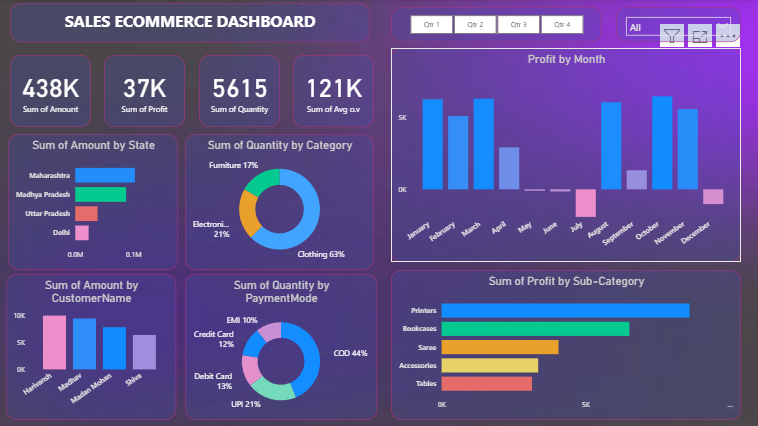

The page's visual inventory and layout, read from the dashboard file:
{"tool":"powerbi","page":{"name":"Page 1","canvas":[1280,720],"ordinal":0},"visuals":[{"type":"textbox","box":[18.5,6.7,604.7,65.5],"z":0},{"type":"columnChart","title":"Profit by Month","fields":{"Y":["Sum(Details.Profit)"],"Category":["Orders.Order Date.Variation.Date Hierarchy.Month"]},"box":[658.5,82.3,587.9,359.5],"z":1000},{"type":"barChart","fields":{"Category":["Details.Sub-Category"],"Y":["Sum(Details.Profit)"]},"box":[658.5,455.2,587.9,252],"z":2000},{"type":"donutChart","fields":{"Category":["Details.Category"],"Y":["Sum(Details.Quantity)"]},"box":[312.4,226.8,317.5,228.5],"z":3000},{"type":"donutChart","fields":{"Y":["Sum(Details.Quantity)"],"Category":["Details.PaymentMode"]},"box":[312.4,461.9,322.5,245.2],"z":4000},{"type":"card","fields":{"Values":["Sum(Details.Amount)"]},"box":[18.5,94.1,136.1,120.9],"z":5000},{"type":"card","fields":{"Values":["Sum(Details.Quantity)"]},"box":[336,94.1,136.1,120.9],"z":6000},{"type":"card","fields":{"Values":["Sum(Details.Profit)"]},"box":[176.4,94.1,136.1,120.9],"z":7000},{"type":"card","fields":{"Values":["Sum(Details.Avg o.v)"]},"box":[493.9,94.1,136.1,120.9],"z":8000},{"type":"barChart","fields":{"Category":["Orders.State"],"Y":["Sum(Details.Amount)"]},"box":[15.1,226.8,285.6,228.5],"z":9000},{"type":"columnChart","fields":{"Category":["Orders.CustomerName"],"Y":["Sum(Details.Amount)"]},"box":[11.8,461.9,285.6,245.2],"z":10000},{"type":"slicer","fields":{"Values":["Orders.Order Date.Variation.Date Hierarchy.Quarter"]},"box":[658.5,13.4,354.4,58.8],"z":11000},{"type":"slicer","fields":{"Values":["Orders.State"]},"box":[1036.4,13.4,210,58.8],"z":12000}]}

Visuals, with their boxes in screenshot pixels (x1, y1, x2, y2), scaled from the page's 1280x720 canvas onto the 758x426 screenshot:
textbox: (11,4,369,43)
"Profit by Month" columnChart: (390,49,738,261)
barChart - Details.Sub-Category x Sum(Details.Profit): (390,269,738,418)
donutChart - Details.Category x Sum(Details.Quantity): (185,134,373,269)
donutChart - Sum(Details.Quantity) x Details.PaymentMode: (185,273,376,418)
card - Sum(Details.Amount): (11,56,92,127)
card - Sum(Details.Quantity): (199,56,280,127)
card - Sum(Details.Profit): (104,56,185,127)
card - Sum(Details.Avg o.v): (292,56,373,127)
barChart - Orders.State x Sum(Details.Amount): (9,134,178,269)
columnChart - Orders.CustomerName x Sum(Details.Amount): (7,273,176,418)
slicer - Orders.Order Date.Variation.Date Hierarchy.Quarter: (390,8,600,43)
slicer - Orders.State: (614,8,738,43)
